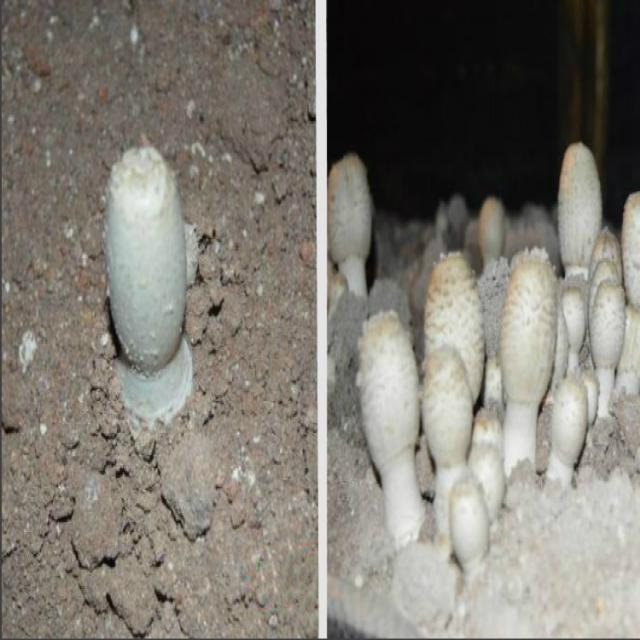Coprinus comatus: (105, 140, 193, 426), (353, 314, 423, 542), (504, 258, 553, 491), (423, 247, 482, 407), (424, 352, 473, 520), (328, 156, 372, 295), (558, 140, 601, 281), (546, 375, 587, 497), (448, 474, 488, 586), (593, 280, 624, 422), (620, 186, 640, 374), (479, 193, 505, 281)
